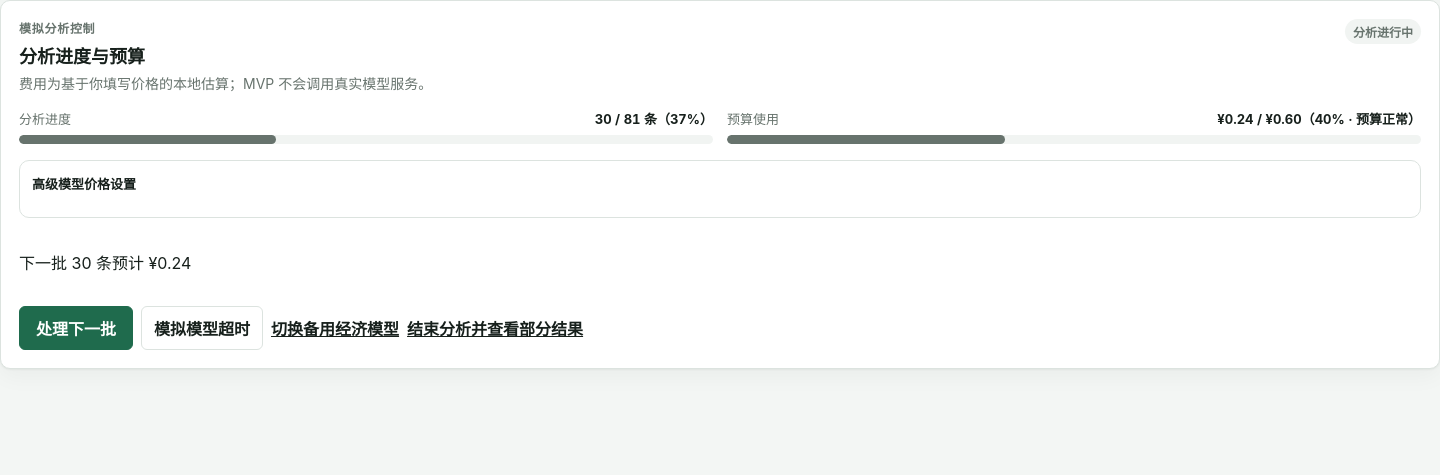
Test case: withholds competing task actions while a confirmation is open
The width and height of the screenshot is (1440, 475).
Click the button "切换备用经济模型": (335,328) [271,306,399,350]
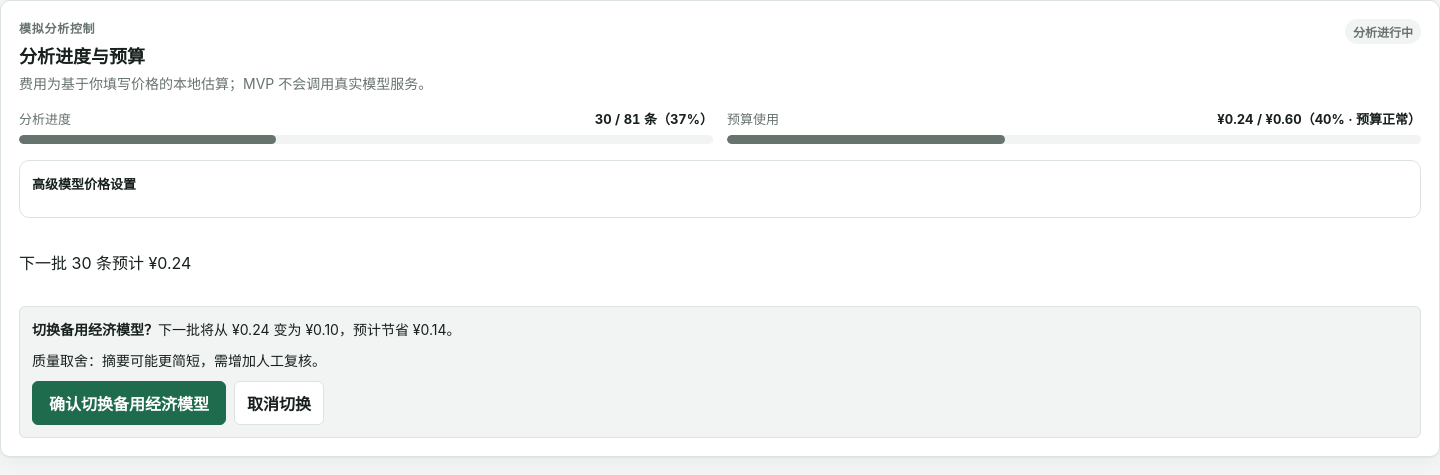
Expected: the button "处理下一批" is gone
Expected: the button "结束分析并查看部分结果" is gone
